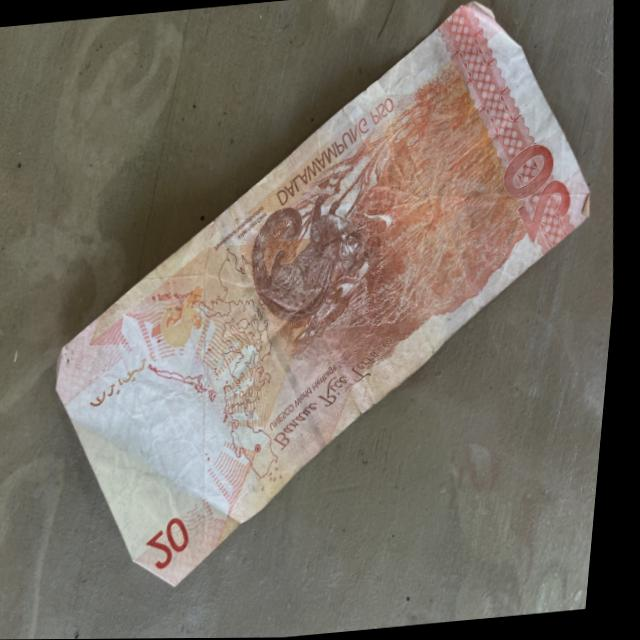20_civet: (242, 180, 386, 329)
20_civet_watermark: (156, 280, 212, 354)
